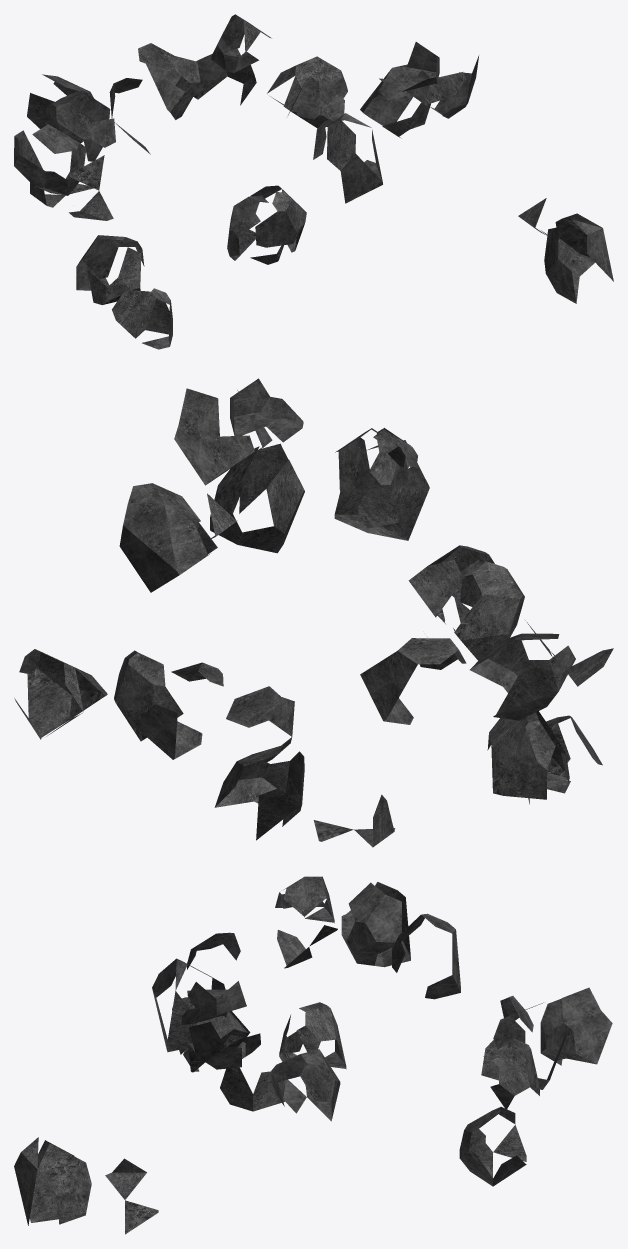
Rendered from Stone20.obj.
The picture shows the model from 3 angles, top to bottom: view 1: azimuth 30°, elevation 25°; view 2: azimuth 150°, elevation 25°; view 3: azimuth 270°, elevation 25°; orthographic projection. The views are drawn at different scales.
Parts seen in each view (by area): view 1: Object015; view 2: Object015; view 3: Object015.
Boxes of the visible parts, <box> form: Object015: <box>14,14,613,349</box>; Object015: <box>14,378,613,847</box>; Object015: <box>14,876,612,1234</box>.
Bounding box in the file's own units: 567 × 338 × 648.
1 material, 1 textured.
